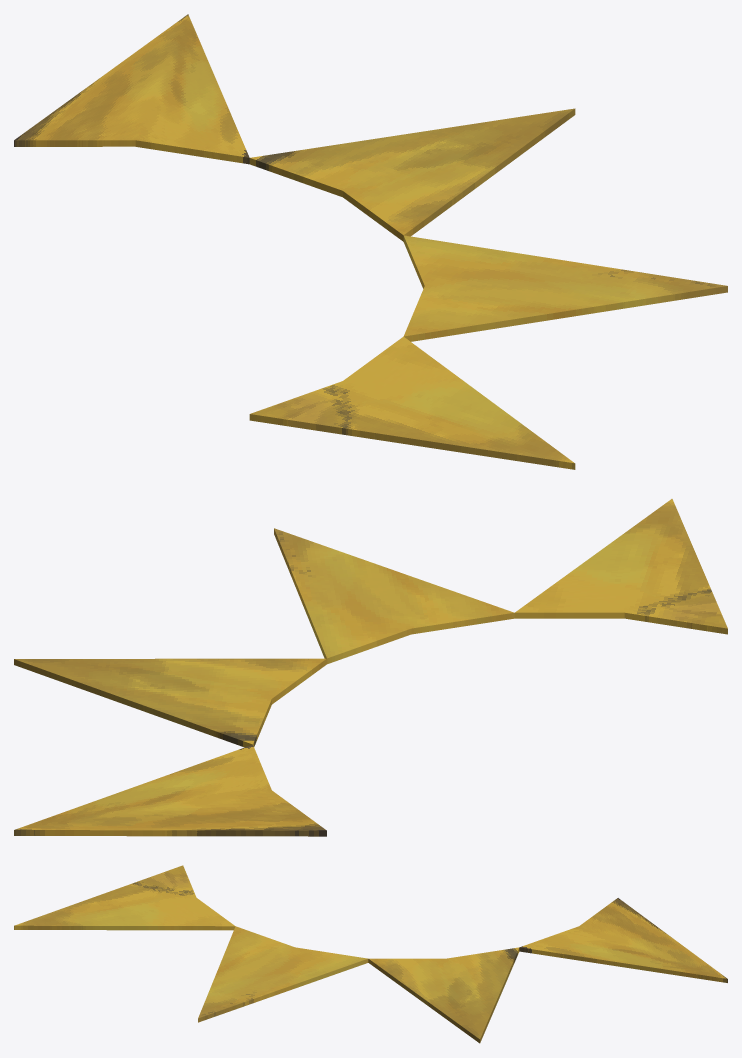
File: 4petal.glb
3 renders of one model, top to bottom at view 1: azimuth 30°, elevation 25°; view 2: azimuth 150°, elevation 25°; view 3: azimuth 270°, elevation 25°, orthographic. The views are drawn at different scales.
Parts seen in each view (by area): view 1: sun-4petal; view 2: sun-4petal; view 3: sun-4petal.
Boxes of the visible parts, <box> form: sun-4petal: <box>14,14,727,469</box>; sun-4petal: <box>14,499,727,836</box>; sun-4petal: <box>14,865,727,1043</box>.
Bounding box in the file's own units: 0.8896 × 0.01 × 1.54.
Materials: 1 (1 with a texture image).
